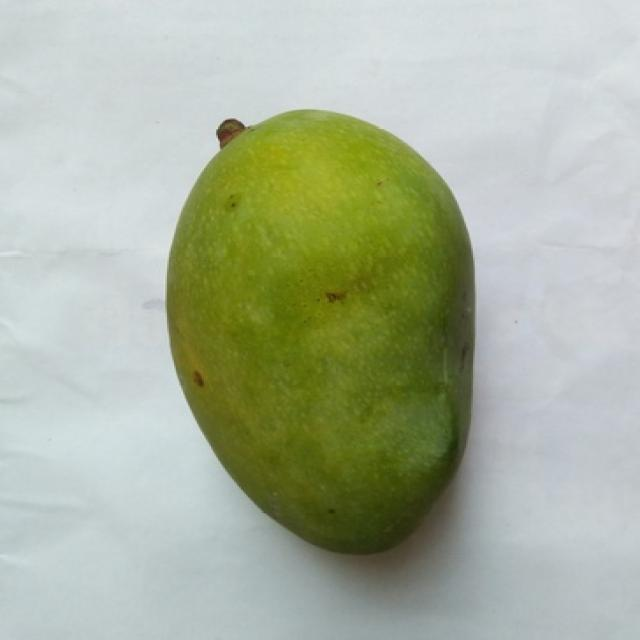Mango: (167, 110, 473, 552)
